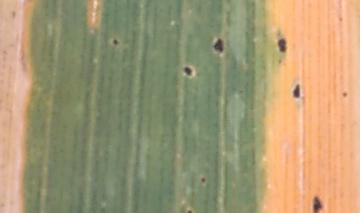tarspot: (211, 37, 225, 54), (311, 194, 323, 213), (277, 37, 288, 54), (291, 82, 301, 99), (182, 65, 193, 77), (340, 90, 348, 99), (111, 38, 119, 46), (10, 9, 16, 19), (200, 176, 206, 185), (185, 209, 192, 213)
